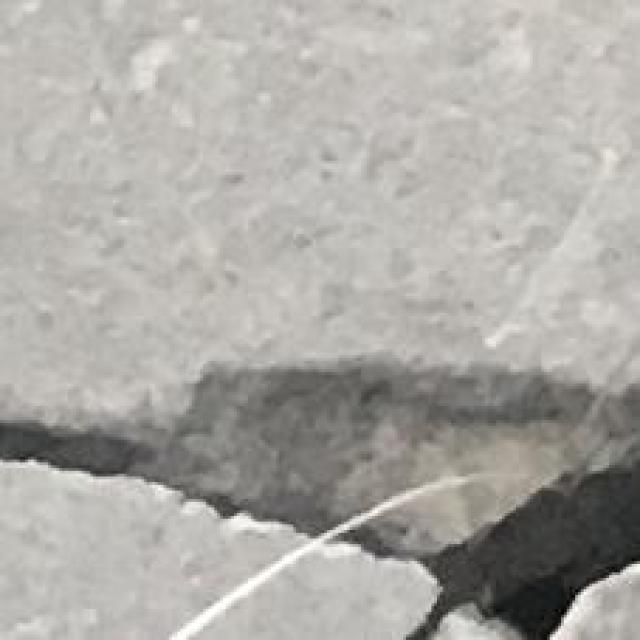Crack: (3, 333, 640, 634)
